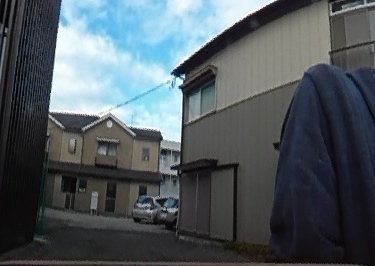person: (288, 12, 375, 266)
